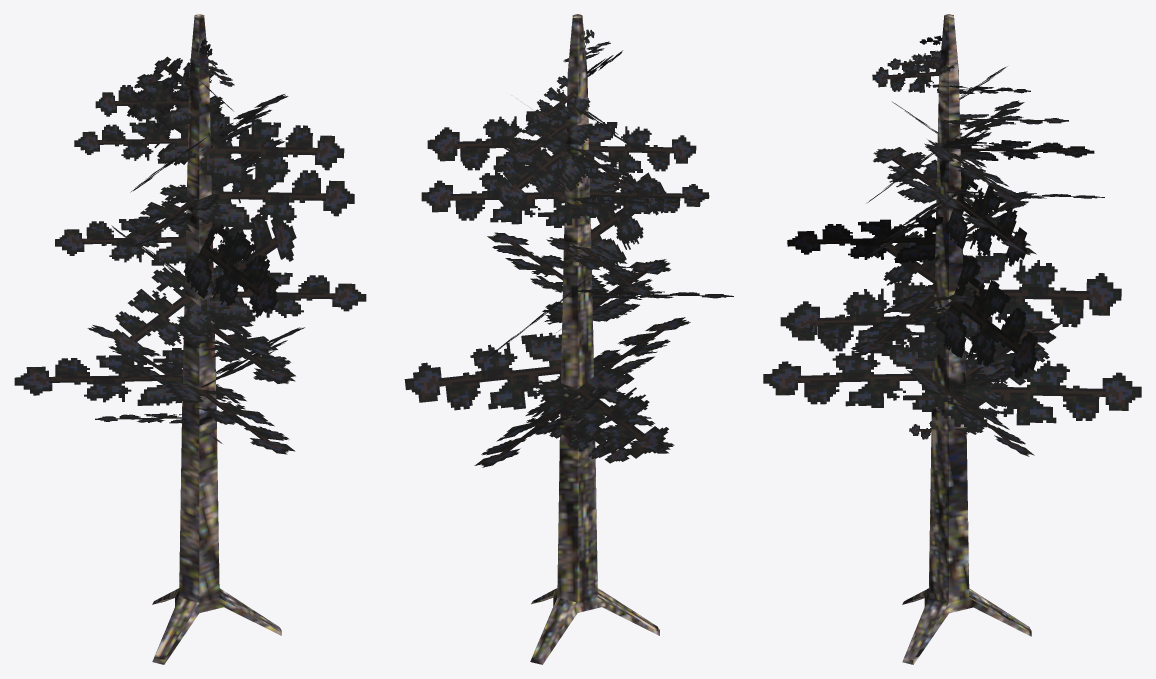
The model's file is tree_1.glb.
The picture shows the model from 3 angles, left to right: view 1: azimuth 30°, elevation 25°; view 2: azimuth 150°, elevation 25°; view 3: azimuth 270°, elevation 25°; orthographic projection.
Visible parts, largest first — view 1: tree_2; view 2: tree_2; view 3: tree_2.
Boxes of the visible parts, bbox=[...] form: tree_2: bbox=[14, 14, 366, 664]; tree_2: bbox=[404, 14, 733, 664]; tree_2: bbox=[763, 14, 1141, 664].
Size of the model in its own units: 4.28 by 8.01 by 4.45.
Materials: 2 (2 with a texture image).
